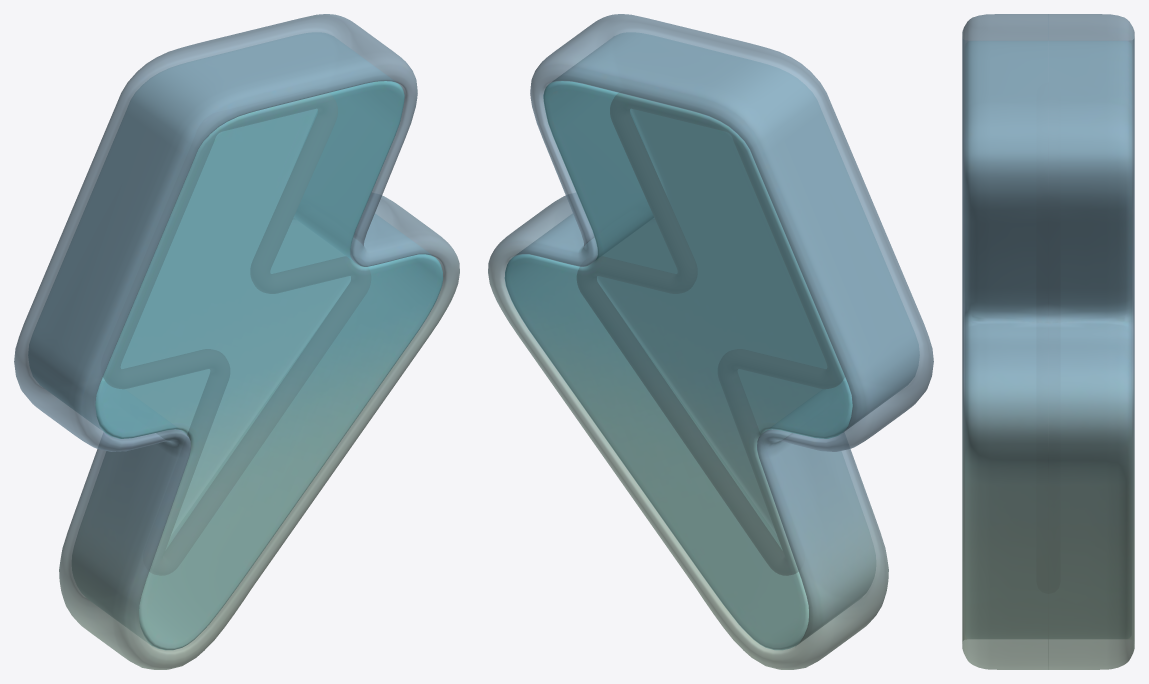
The model's file is xp_blue_v2-opt.glb.
The picture shows the model from 3 angles, left to right: view 1: azimuth 30°, elevation 25°; view 2: azimuth 150°, elevation 25°; view 3: azimuth 270°, elevation 25°; orthographic projection. The views are drawn at different scales.
Parts seen in each view (by area): view 1: мат с г.003, мат с г.001, мат с г.002; view 2: мат с г.003, мат с г.001, мат с г.002; view 3: мат с г.001, мат с г.003.
Boxes of the visible parts, x1,y1,x2,y2 form: мат с г.003: [29, 33, 443, 650]; мат с г.001: [14, 14, 459, 669]; мат с г.002: [103, 93, 370, 575]; мат с г.003: [504, 33, 918, 650]; мат с г.001: [488, 14, 933, 669]; мат с г.002: [577, 93, 844, 575]; мат с г.001: [962, 14, 1134, 669]; мат с г.003: [965, 41, 1131, 638].
Bounding box in the file's own units: 0.0767 × 0.1069 × 0.0246.
Materials: 3 (3 with a texture image).
